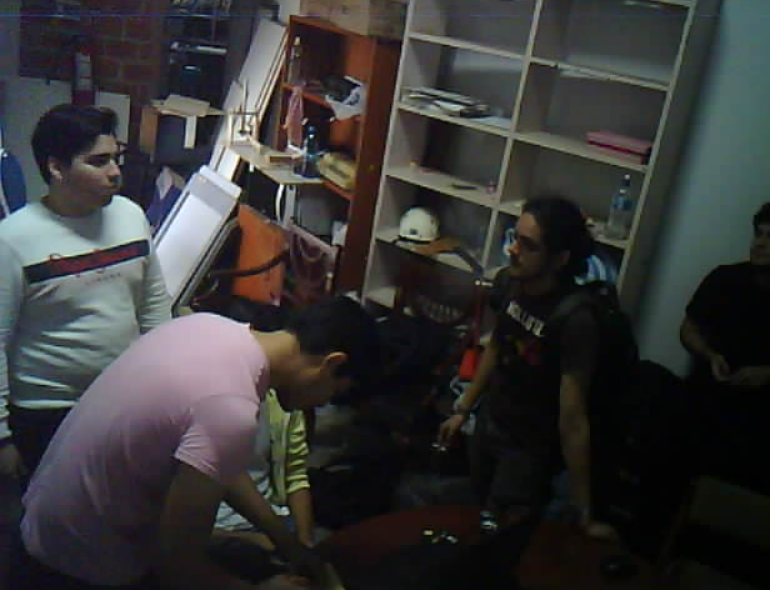person: (1, 297, 386, 590), (412, 172, 639, 565), (0, 90, 183, 477), (676, 148, 770, 495)
